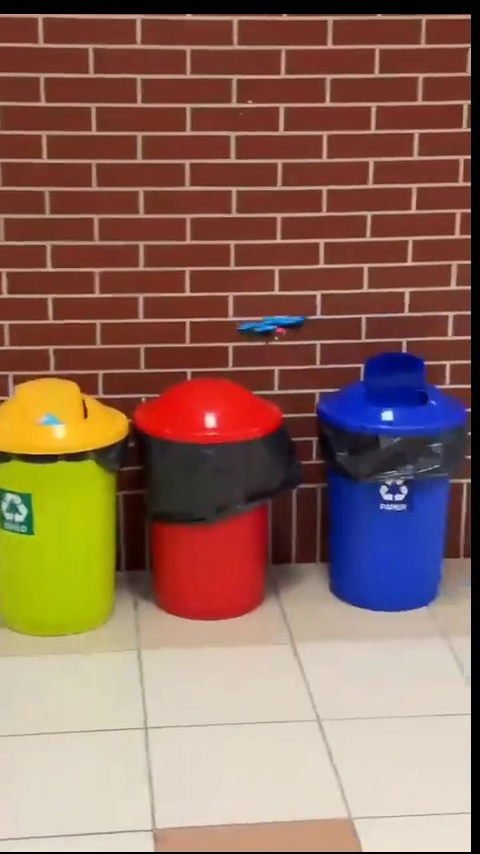drone: (235, 311, 308, 341)
